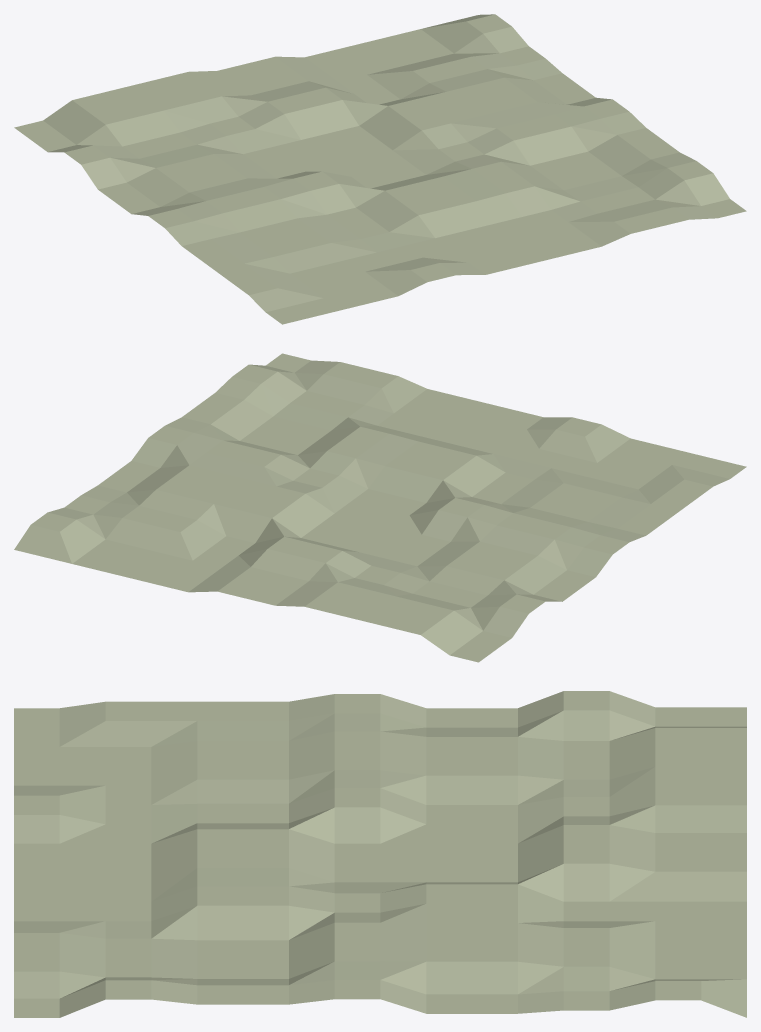
3 renders of one model, top to bottom at view 1: azimuth 30°, elevation 25°; view 2: azimuth 150°, elevation 25°; view 3: azimuth 270°, elevation 25°, orthographic. The views are drawn at different scales.
Bounding box in the file's own units: 32 × 0.9143 × 32.
